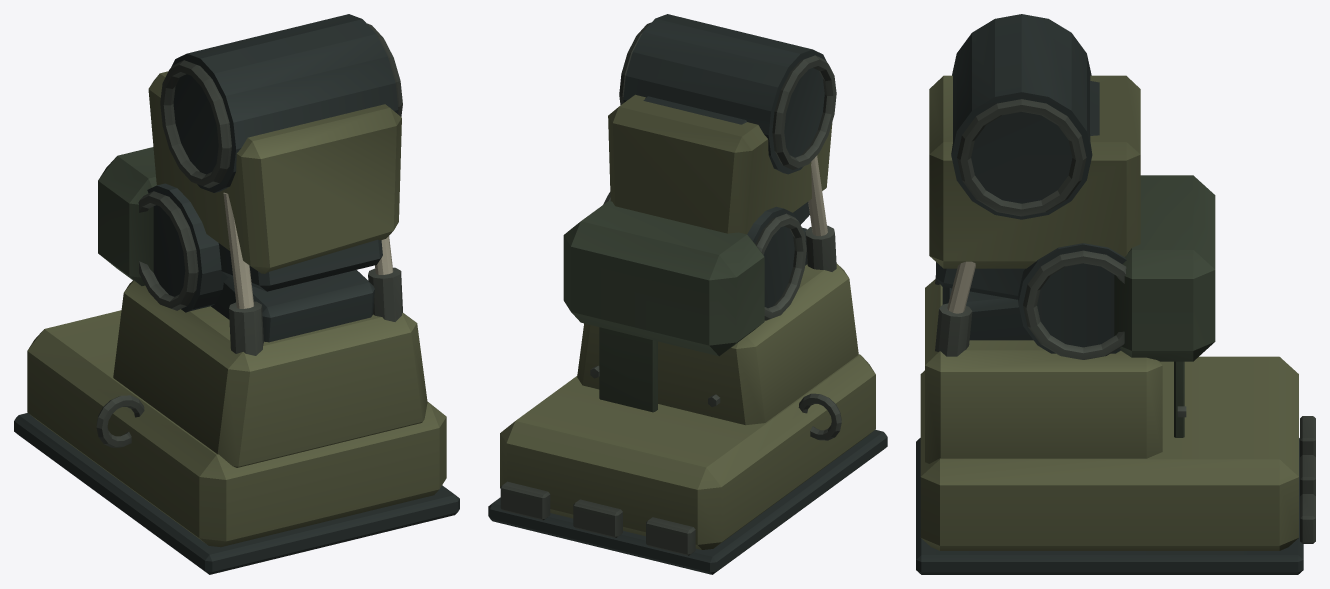
The model's file is left_leg.glb.
3 views of the same model, side by side, from view 1: azimuth 30°, elevation 25°; view 2: azimuth 150°, elevation 25°; view 3: azimuth 270°, elevation 25° (orthographic). The views are drawn at different scales.
Visible parts, largest first — view 1: Boot_armour.001, Shin_plate.001, Thigh_plate.001, left_Leg_joint, Boot_sole.001, Shin_core, Knee_shield, left_Leg_joint.001, left_Joint_collar.001, Angled_thigh_core.001, left_Joint_collar.003, Calf_ram.001 (+3 smaller); view 2: Boot_armour.001, Knee_shield, Thigh_plate.001, Shin_plate.001, left_Leg_joint, Boot_sole.001, Shin_disruptive_patch, left_Joint_collar.001, left_Leg_joint.001, left_Joint_collar.003, Toe_tread.002, Toe_tread.001 (+5 smaller); view 3: Boot_armour.001, Shin_plate.001, left_Leg_joint, Thigh_plate.001, Knee_shield, Boot_sole.001, left_Leg_joint.001, left_Joint_collar.002, left_Joint_collar.004, Shin_core, Angled_thigh_core.001, Calf_ram.002 (+5 smaller).
Part boxes in pixels (box(x1,y1,x2,y2)): Boot_armour.001: box(27, 310, 446, 547); Shin_plate.001: box(113, 280, 427, 467); Thigh_plate.001: box(148, 71, 401, 273); left_Leg_joint: box(171, 14, 398, 192); Boot_sole.001: box(14, 413, 459, 574); Shin_core: box(211, 270, 374, 342); Knee_shield: box(98, 147, 156, 285); left_Leg_joint.001: box(147, 183, 228, 312); left_Joint_collar.001: box(160, 60, 231, 188); Angled_thigh_core.001: box(218, 239, 382, 291); left_Joint_collar.003: box(138, 191, 198, 310); Calf_ram.001: box(229, 301, 263, 355); Boot_armour.001: box(500, 354, 875, 549); Knee_shield: box(563, 201, 764, 356); Thigh_plate.001: box(608, 94, 832, 234); Shin_plate.001: box(577, 263, 858, 425); left_Leg_joint: box(623, 14, 826, 174); Boot_sole.001: box(488, 430, 887, 574); Shin_disruptive_patch: box(599, 327, 657, 412); left_Joint_collar.001: box(772, 55, 836, 169); left_Leg_joint.001: box(610, 200, 795, 308); left_Joint_collar.003: box(755, 213, 806, 320); Toe_tread.002: box(500, 481, 550, 520); Toe_tread.001: box(573, 499, 622, 537); Boot_armour.001: box(920, 356, 1298, 550); Shin_plate.001: box(925, 279, 1162, 464); left_Leg_joint: box(951, 14, 1092, 219); Thigh_plate.001: box(929, 75, 1140, 268); Knee_shield: box(1114, 175, 1215, 361); Boot_sole.001: box(916, 438, 1303, 574); left_Leg_joint.001: box(1018, 243, 1126, 353); left_Joint_collar.002: box(957, 99, 1086, 216); left_Joint_collar.004: box(1023, 250, 1126, 359); Shin_core: box(942, 287, 1033, 340); Angled_thigh_core.001: box(936, 81, 1099, 299); Calf_ram.002: box(935, 303, 972, 356).
Bounding box in the file's own units: 0.367 × 0.58 × 0.454.
